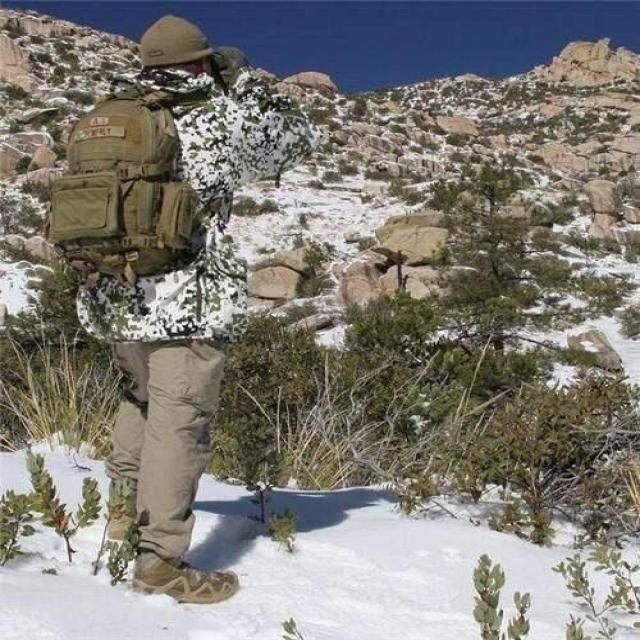Human: (48, 14, 322, 606)
